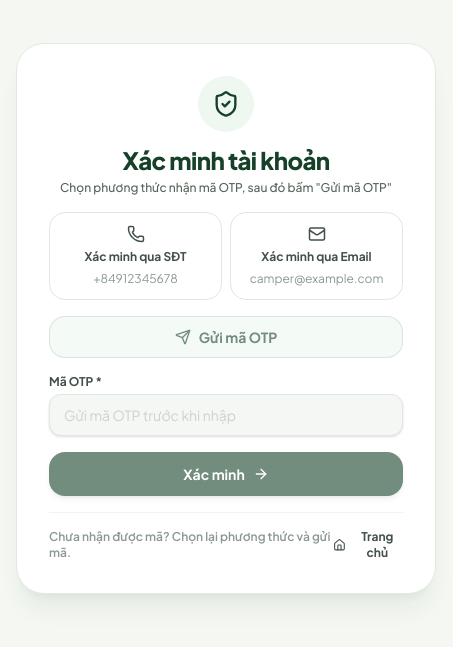
Test case: VerifyOtpPage › shows a generic error when sendOtp fails with a non-HTTP (network) error
Click the button "Xác minh qua SĐT +84912345678": (136, 256) [49,212,222,300]
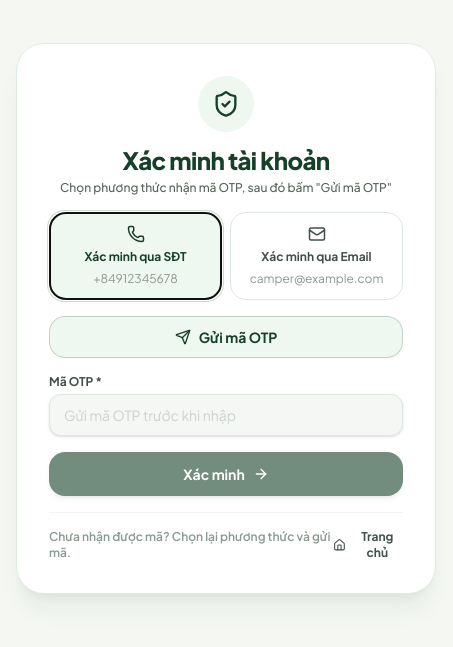
Click the button "Gửi mã OTP": (226, 336) [49,316,403,358]
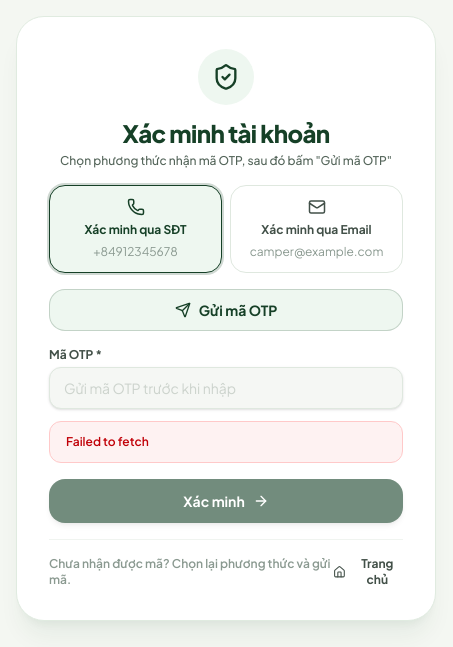
Now the text "Failed to fetch" is shown, box [66,434,149,448]
